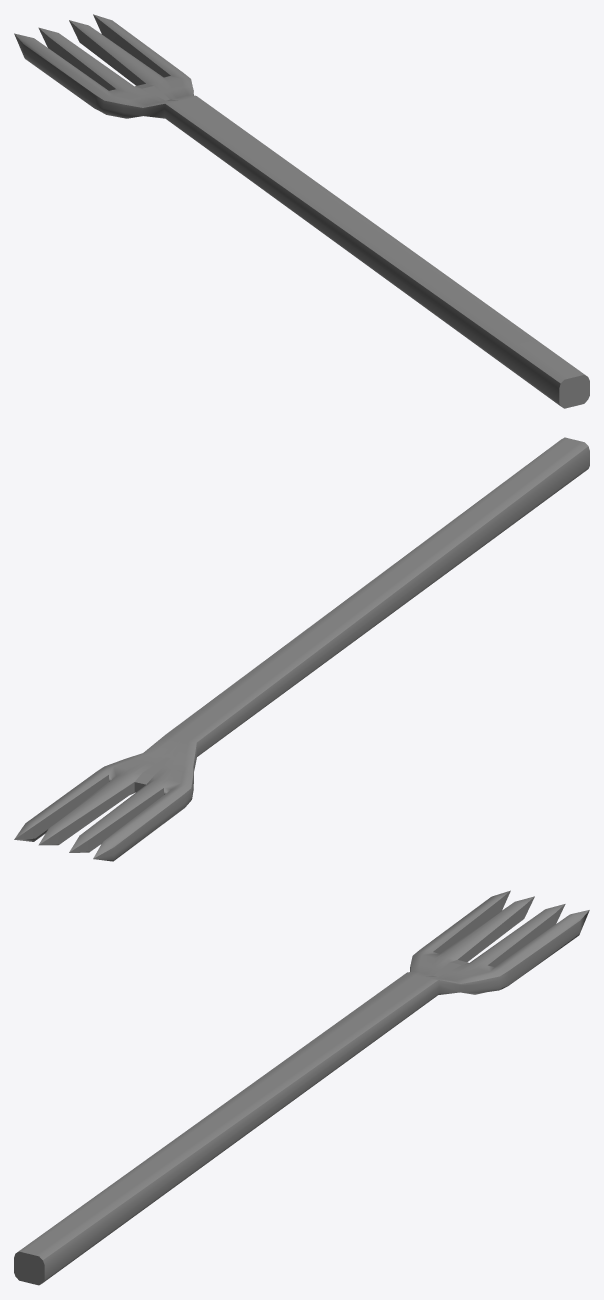
File: fork.fbx
The picture shows the model from 3 angles, top to bottom: view 1: azimuth 30°, elevation 25°; view 2: azimuth 150°, elevation 25°; view 3: azimuth 330°, elevation 25°; orthographic projection.
Visible parts, largest first — view 1: polySurface5; view 2: polySurface5; view 3: polySurface5.
Part boxes in pixels (x1=…): polySurface5: x1=14, y1=14, x2=589, y2=408; polySurface5: x1=14, y1=437, x2=589, y2=861; polySurface5: x1=14, y1=890, x2=589, y2=1285.
Bounding box in the file's own units: 2.14 × 0.935 × 21.48.
1 material, 1 textured.
